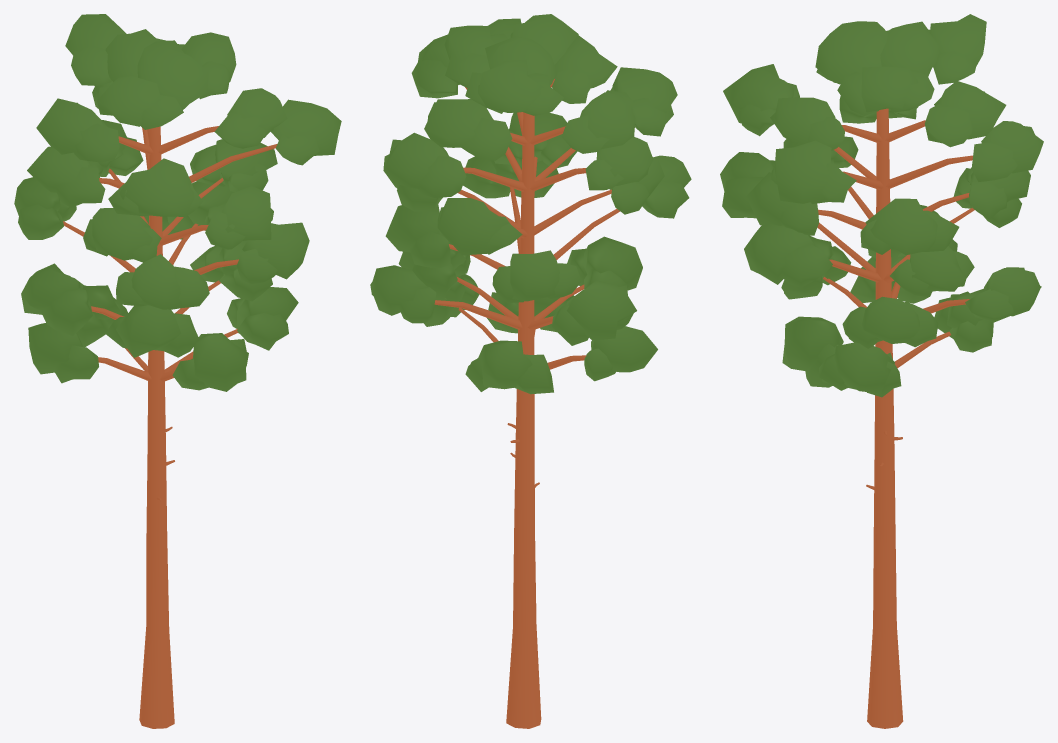
File: Blender_RedPine_2.glb
3 views of the same model, side by side, from view 1: azimuth 30°, elevation 25°; view 2: azimuth 150°, elevation 25°; view 3: azimuth 270°, elevation 25° (orthographic).
Visible parts, largest first — view 1: Blender_RedPine_2; view 2: Blender_RedPine_2; view 3: Blender_RedPine_2.
Boxes of the visible parts, x1,y1,x2,y2 form: Blender_RedPine_2: (14,14,341,728); Blender_RedPine_2: (370,14,691,728); Blender_RedPine_2: (720,14,1043,728).
Size of the model in its own units: 9.15 by 21.92 by 9.28.
